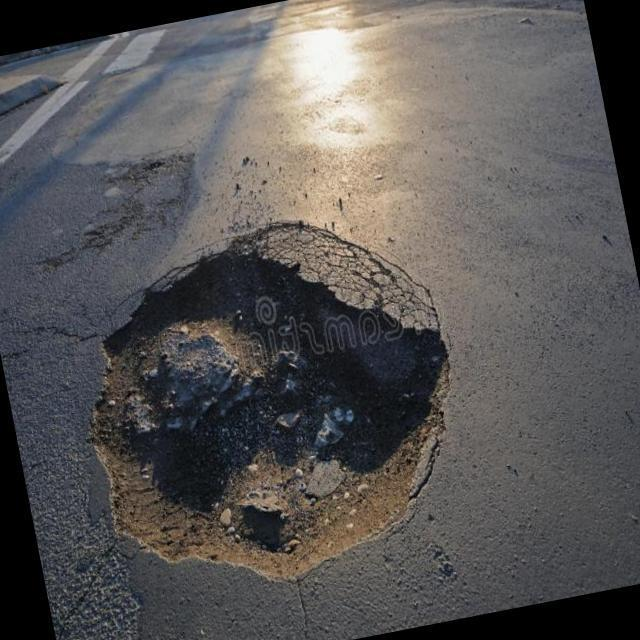Pothole: (89, 219, 457, 585)
